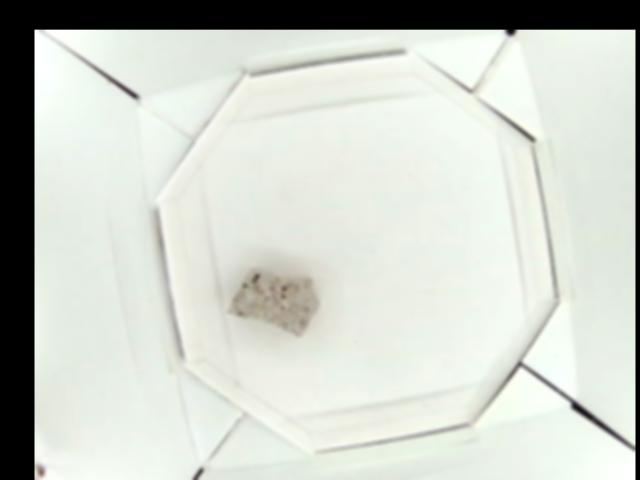China: (224, 267, 322, 335)
